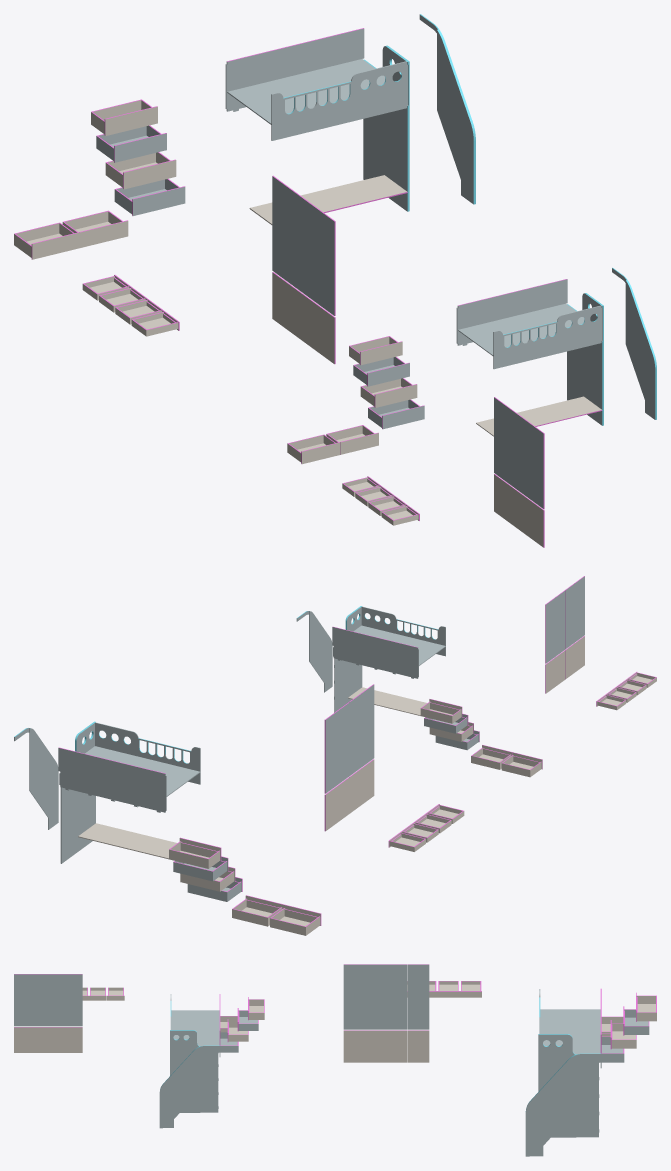
3 renders of one model, top to bottom at view 1: azimuth 30°, elevation 25°; view 2: azimuth 150°, elevation 25°; view 3: azimuth 270°, elevation 25°, orthographic. The views are drawn at different scales.
Parts seen in each view (by area): view 1: Geom3D (×12), Geom3D_ABF_PART_19____LYR_[Layer0]____19. Giường tầng - Trên (×2), Geom3D_ABF_PART_36____LYR_[Layer0]____36. Giường tầng - Trên (×2), Geom3D_ABF_PART_20____LYR_[Layer0]____20. Giường tầng - Trên (×2), Geom3D_ABF_PART_11____LYR_[Layer0]____11. Giường tầng - Dưới (×2), Geom3D_ABF_PART_127____LYR_[Layer0]____127. Cầu thang - Tay  (×2), Geom3D_ABF_PART_6____LYR_[Layer0]____6. Giường tầng - Dưới - (×2), Geom3D_ABF_PART_95____LYR_[_CÁNH]____95. Cầu thang - Mặt cán, Geom3D_ABF_PART_93____LYR_[_CÁNH]____93. Cầu thang - Mặt cán, Geom3D_ABF_PART_77____LYR_[_CÁNH]____77. Cầu thang - Mặt cán, Geom3D_ABF_PART_94____LYR_[_CÁNH]____94. Cầu thang - Mặt cán, Geom3D_ABF_PART_12____LYR_[_CÁNH]____12. Giường tầng - Dưới  (+1 smaller); view 2: Geom3D_ABF_PART_36____LYR_[Layer0]____36. Giường tầng - Trên (×2), Geom3D (×8), Geom3D_ABF_PART_11____LYR_[Layer0]____11. Giường tầng - Dưới (×2), Geom3D_ABF_PART_127____LYR_[Layer0]____127. Cầu thang - Tay  (×2), Geom3D_ABF_PART_19____LYR_[Layer0]____19. Giường tầng - Trên (×2), Geom3D_ABF_PART_6____LYR_[Layer0]____6. Giường tầng - Dưới - (×2), Geom3D_ABF_PART_20____LYR_[Layer0]____20. Giường tầng - Trên (×2); view 3: Geom3D (×16), Geom3D_ABF_PART_127____LYR_[Layer0]____127. Cầu thang - Tay  (×2), Geom3D_ABF_PART_20____LYR_[Layer0]____20. Giường tầng - Trên (×2), Geom3D_ABF_PART_11____LYR_[Layer0]____11. Giường tầng - Dưới (×2), Geom3D_ABF_PART_17____LYR_[Layer0]____17. Giường tầng - Dưới (×2), Geom3D_ABF_PART_125____LYR_[Layer0]____125. Cầu thang - Tay .
Part boxes in pixels (box(x1,y1,x2,y2)): Geom3D (×12): box(272, 176, 543, 508); Geom3D_ABF_PART_19____LYR_[Layer0]____19. Giường tầng - Trên (×2): box(271, 61, 601, 369); Geom3D_ABF_PART_36____LYR_[Layer0]____36. Giường tầng - Trên (×2): box(225, 28, 567, 345); Geom3D_ABF_PART_20____LYR_[Layer0]____20. Giường tầng - Trên (×2): box(227, 59, 584, 355); Geom3D_ABF_PART_11____LYR_[Layer0]____11. Giường tầng - Dưới (×2): box(363, 46, 602, 425); Geom3D_ABF_PART_127____LYR_[Layer0]____127. Cầu thang - Tay  (×2): box(437, 30, 655, 419); Geom3D_ABF_PART_6____LYR_[Layer0]____6. Giường tầng - Dưới - (×2): box(249, 175, 601, 436); Geom3D_ABF_PART_95____LYR_[_CÁNH]____95. Cầu thang - Mặt cán: box(123, 160, 176, 189); Geom3D_ABF_PART_93____LYR_[_CÁNH]____93. Cầu thang - Mặt cán: box(114, 133, 166, 162); Geom3D_ABF_PART_77____LYR_[_CÁNH]____77. Cầu thang - Mặt cán: box(133, 187, 185, 215); Geom3D_ABF_PART_94____LYR_[_CÁNH]____94. Cầu thang - Mặt cán: box(105, 106, 157, 135); Geom3D_ABF_PART_12____LYR_[_CÁNH]____12. Giường tầng - Dưới : box(32, 232, 80, 259); Geom3D_ABF_PART_36____LYR_[Layer0]____36. Giường tầng - Trên (×2): box(58, 627, 418, 812); Geom3D (×8): box(325, 576, 584, 793); Geom3D_ABF_PART_11____LYR_[Layer0]____11. Giường tầng - Dưới (×2): box(60, 607, 362, 863); Geom3D_ABF_PART_127____LYR_[Layer0]____127. Cầu thang - Tay  (×2): box(29, 611, 332, 829); Geom3D_ABF_PART_19____LYR_[Layer0]____19. Giường tầng - Trên (×2): box(95, 606, 445, 784); Geom3D_ABF_PART_6____LYR_[Layer0]____6. Giường tầng - Dưới - (×2): box(78, 687, 427, 859); Geom3D_ABF_PART_20____LYR_[Layer0]____20. Giường tầng - Trên (×2): box(85, 625, 445, 796); Geom3D (×16): box(14, 964, 429, 1062); Geom3D_ABF_PART_127____LYR_[Layer0]____127. Cầu thang - Tay  (×2): box(163, 1050, 576, 1156); Geom3D_ABF_PART_20____LYR_[Layer0]____20. Giường tầng - Trên (×2): box(171, 1009, 600, 1054); Geom3D_ABF_PART_11____LYR_[Layer0]____11. Giường tầng - Dưới (×2): box(200, 1048, 598, 1137); Geom3D_ABF_PART_17____LYR_[Layer0]____17. Giường tầng - Dưới (×2): box(170, 1030, 576, 1137); Geom3D_ABF_PART_125____LYR_[Layer0]____125. Cầu thang - Tay : box(525, 1081, 551, 1156).
Bounding box in the file's own units: 6.7 × 2.25 × 12.74.
